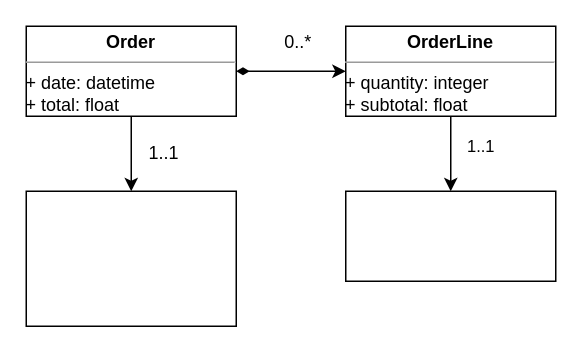
Some shapes in this 582 by 353 pixel diagram are drawn without their labels. Each missing label, with the centre of its shape:
"Customer + name: string + phone: string + email: string + address: string" goes at (130,258).
"Product + name: string + price: float" goes at (450,235).
